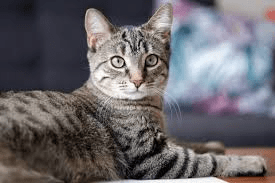cat: (31, 2, 194, 183)
